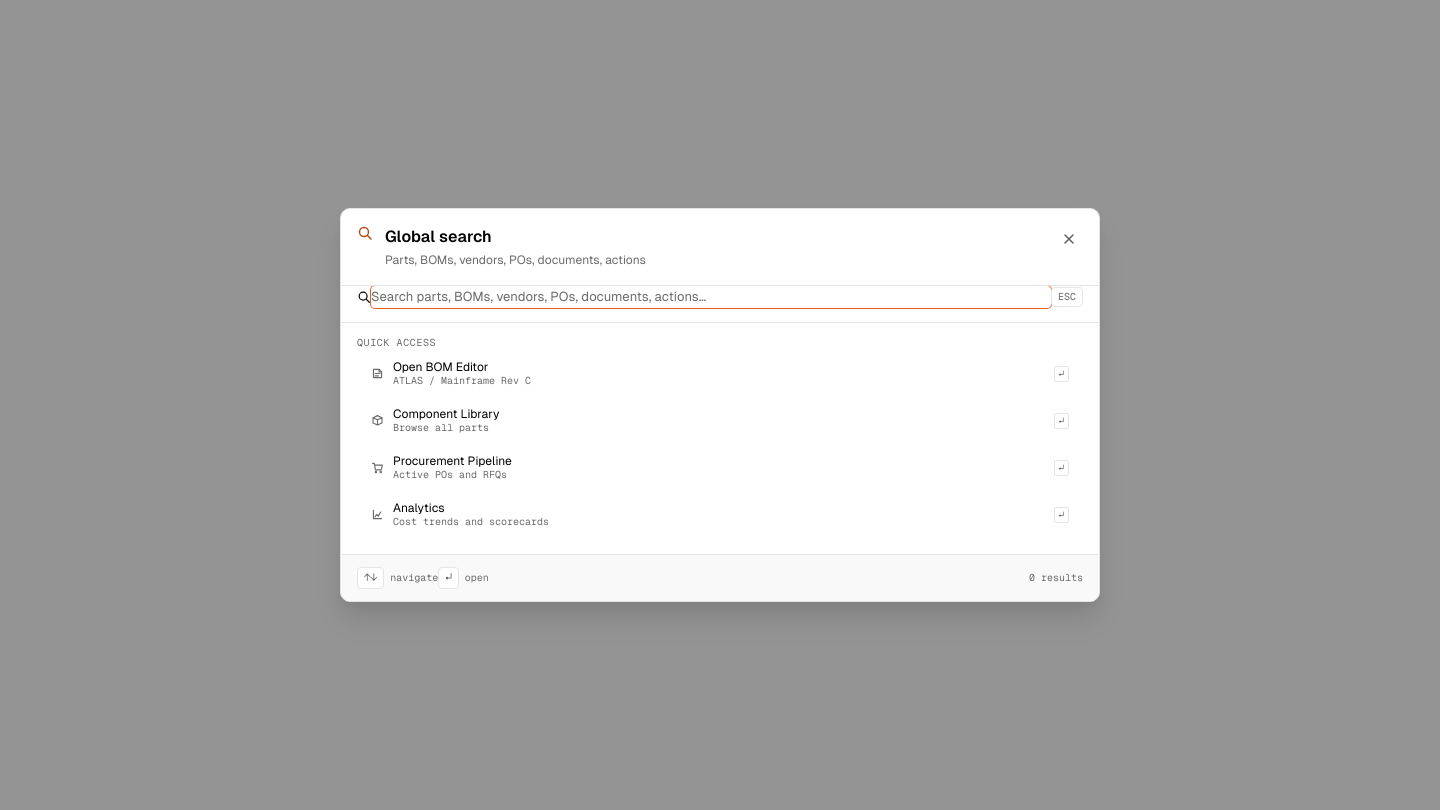
Scenario: GlobalSearchModal › surfaces a failed search
Type "zz" into the dropdown at x=711, y=297, box [371,286,1051,308]
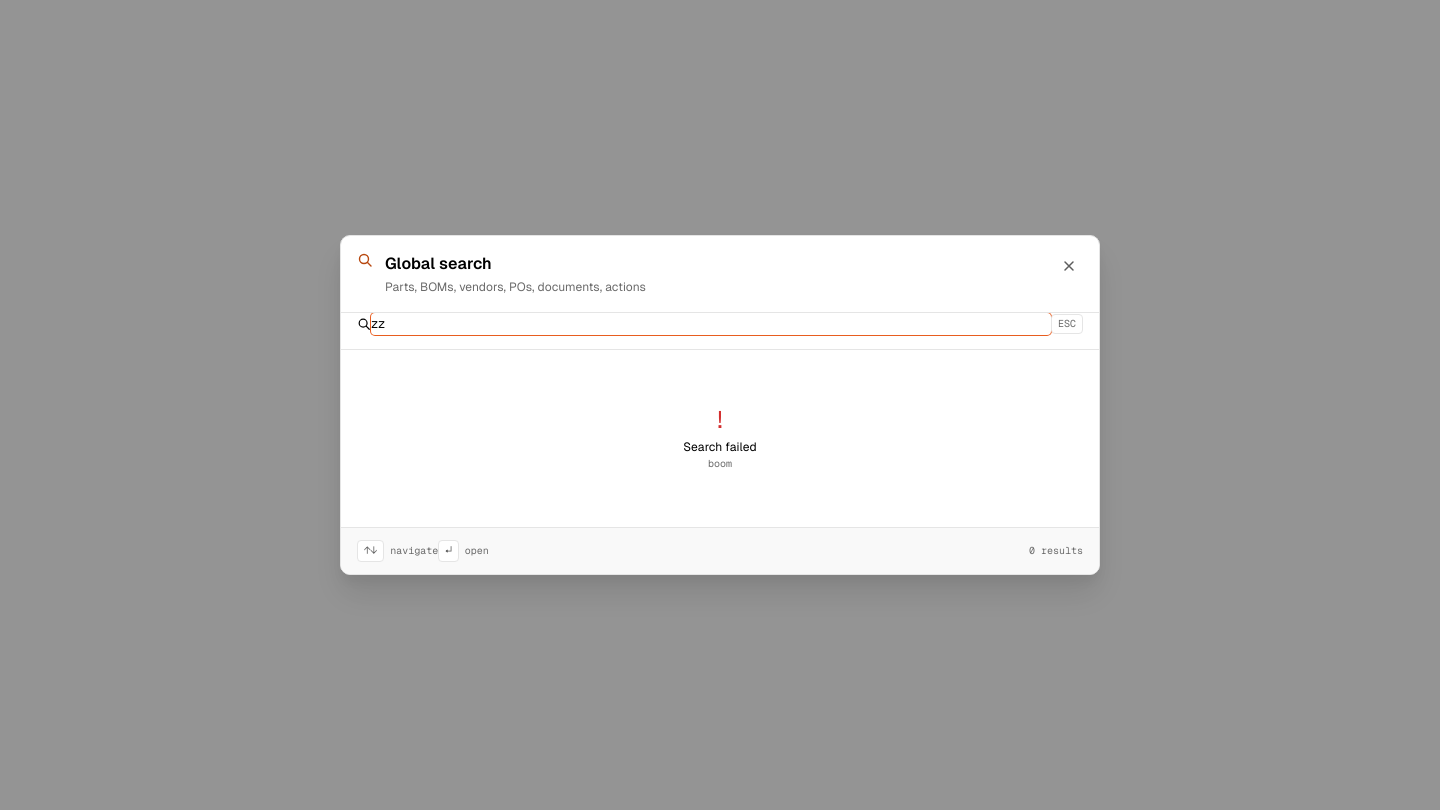
Result: the text "Search failed" is shown at [683,440,757,454]
Result: the text "boom" is shown at [708,458,732,469]
